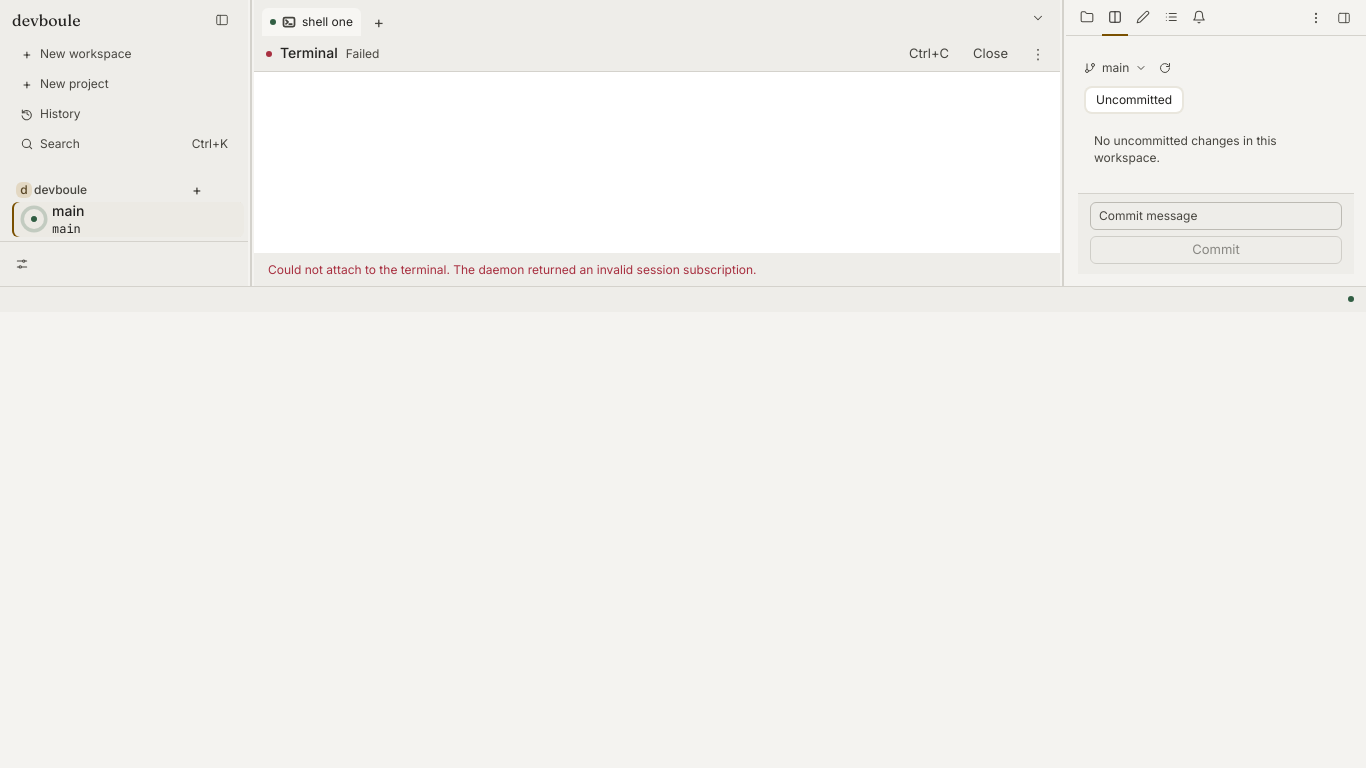
Test: Workspace sessions › with no agent installed the first-message composer says so and starts nothing
Click the button with aria-label "New workspace".
click(124, 54)  # box [12, 40, 236, 68]
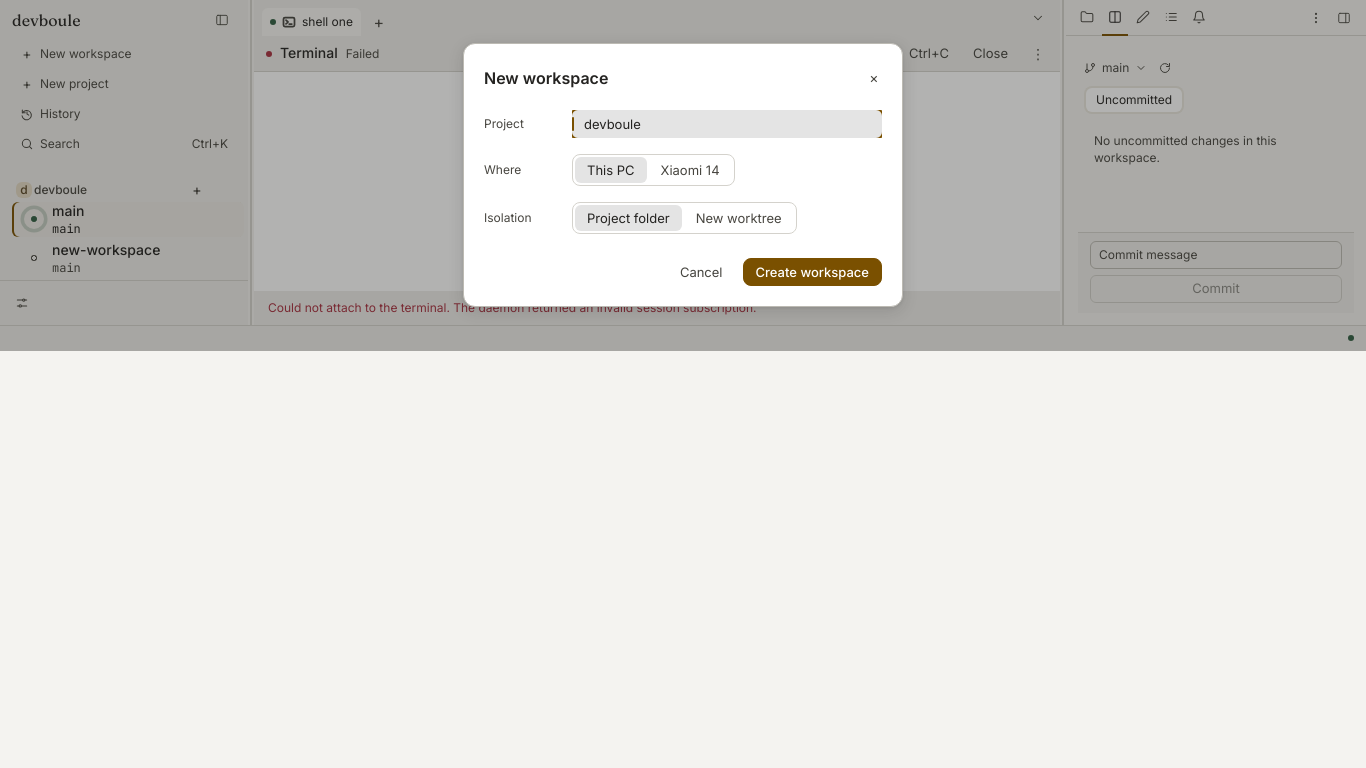
Submit the form, box [484, 108, 882, 286]
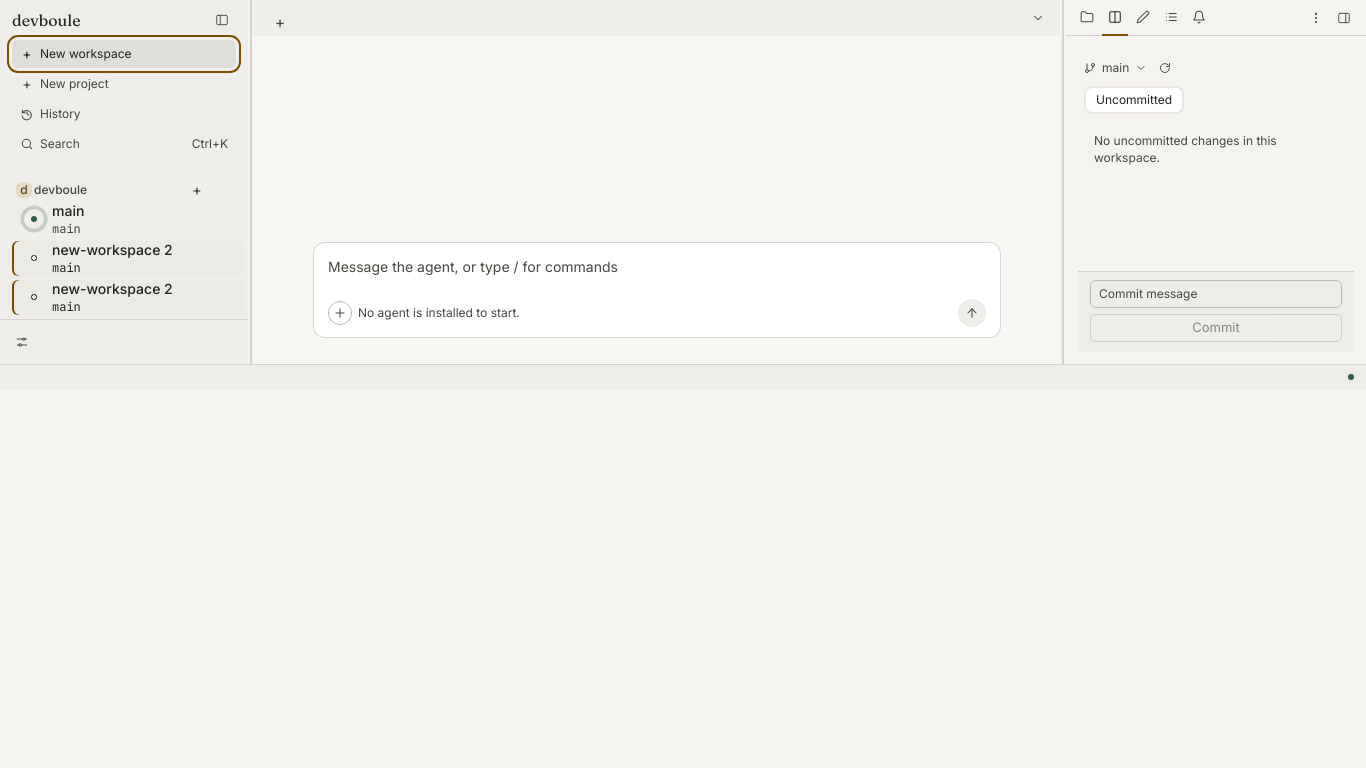
Result: the text "No agent is installed to start." is shown at [358, 304, 520, 321]
